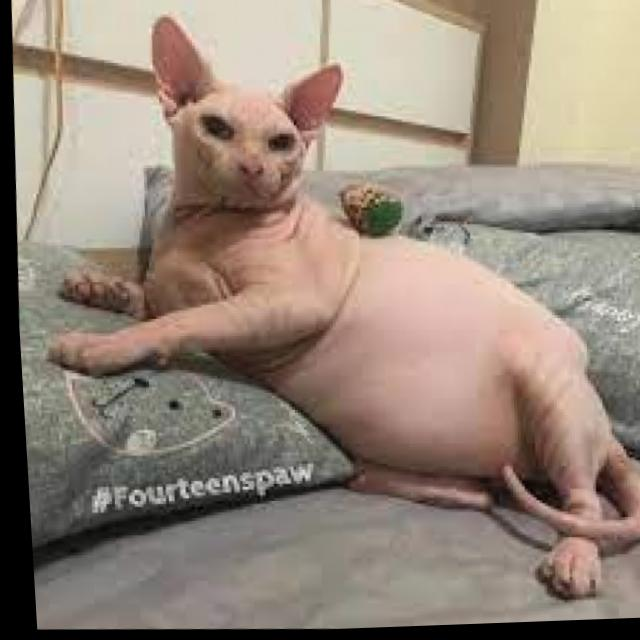cat: (73, 31, 640, 598)
